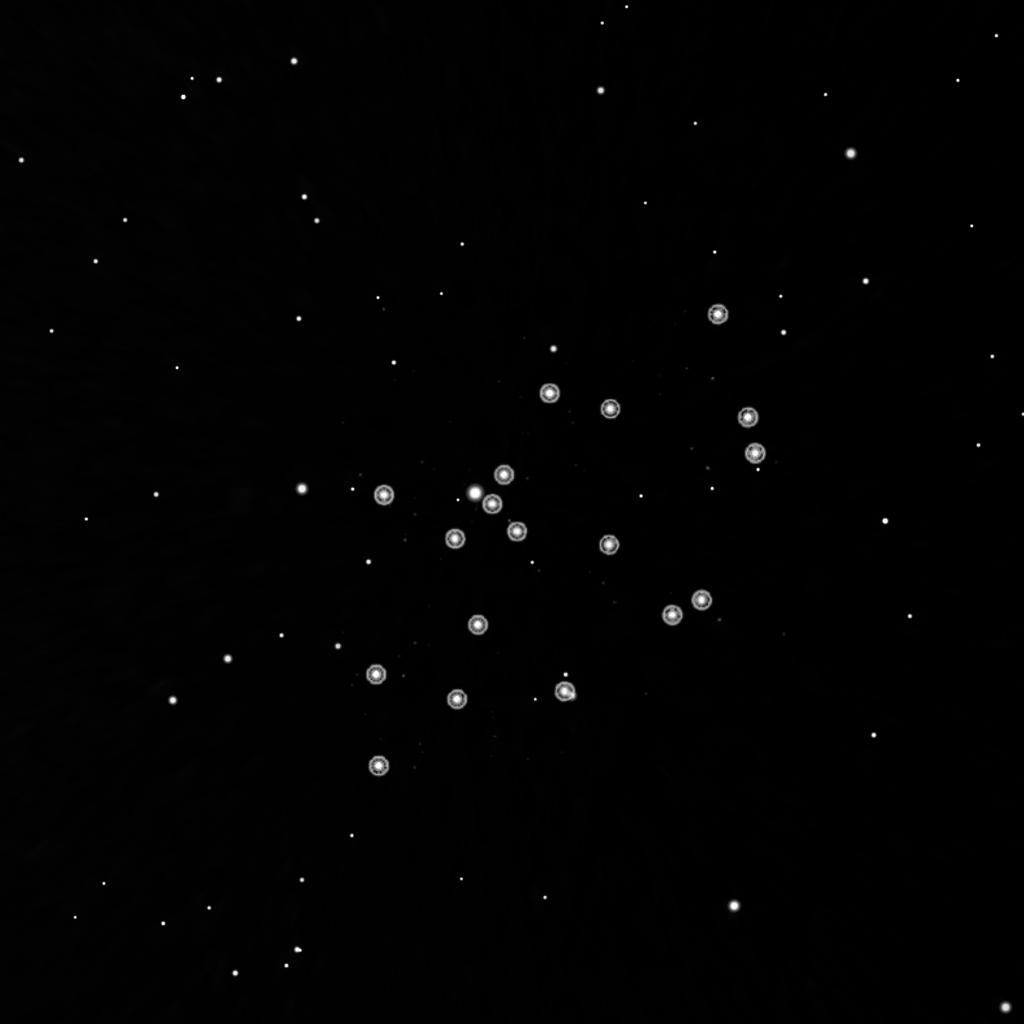canis_major: (446, 379, 624, 556)
